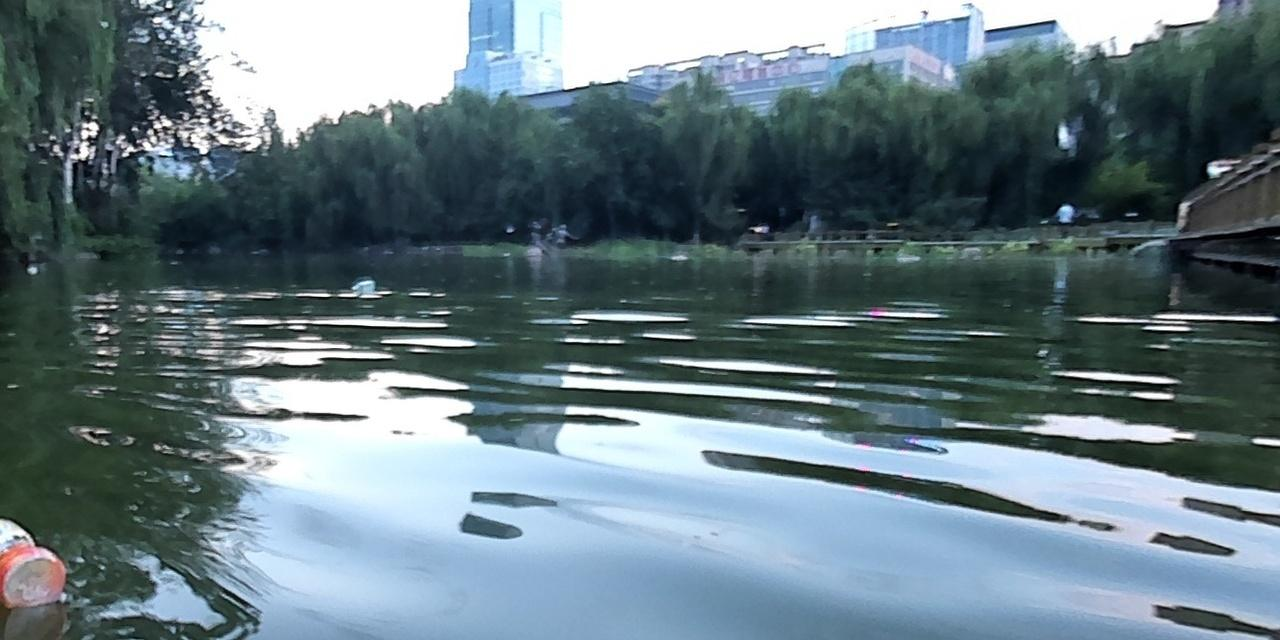bottle: (0, 517, 62, 605), (352, 279, 374, 290)
